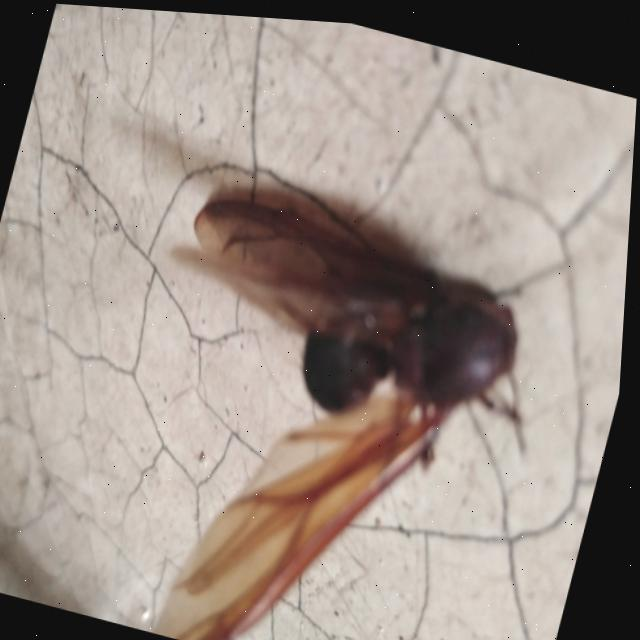Dead-Male-Alate: (82, 160, 569, 640)
